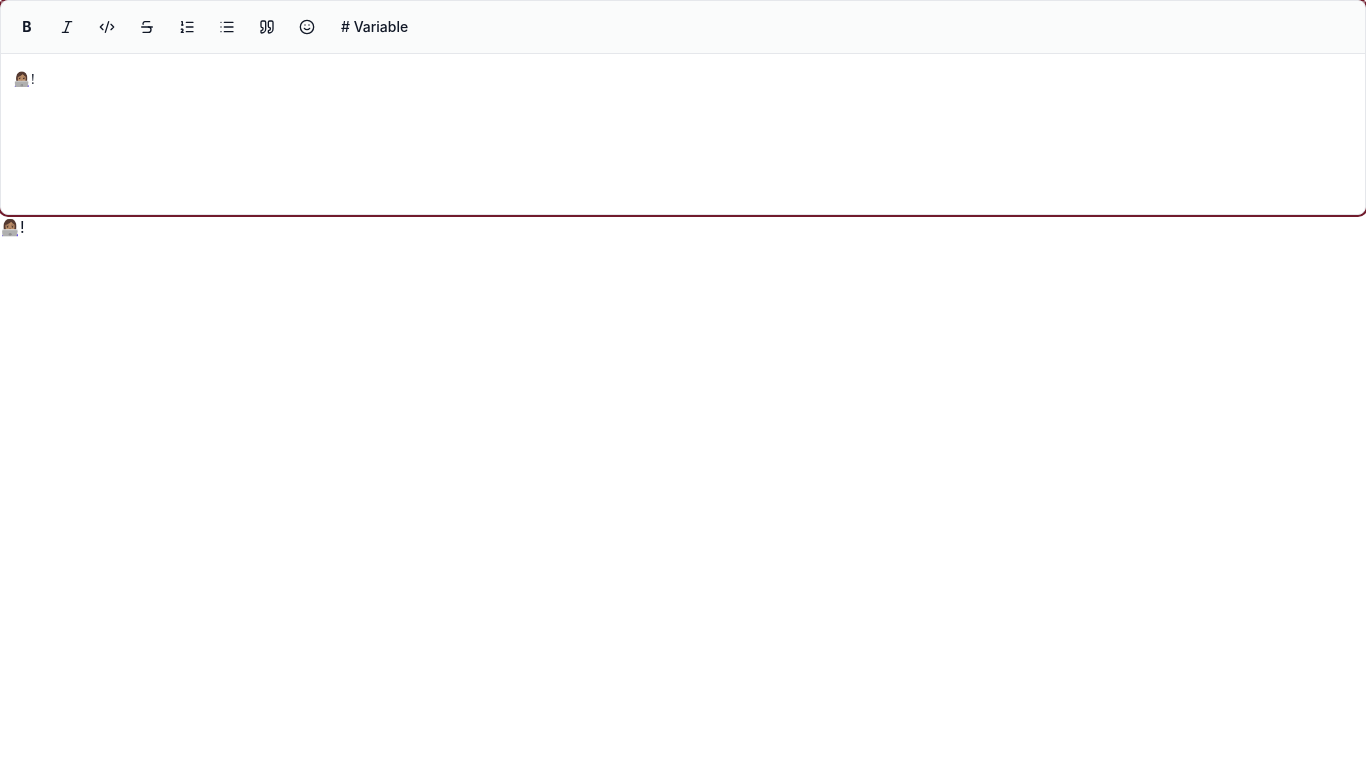
Test case: emoji and toolbar › does not split an existing composed Unicode sequence at a caret offset
Click the button named "Insertar emoji".
click(307, 27)  # box [289, 9, 325, 45]
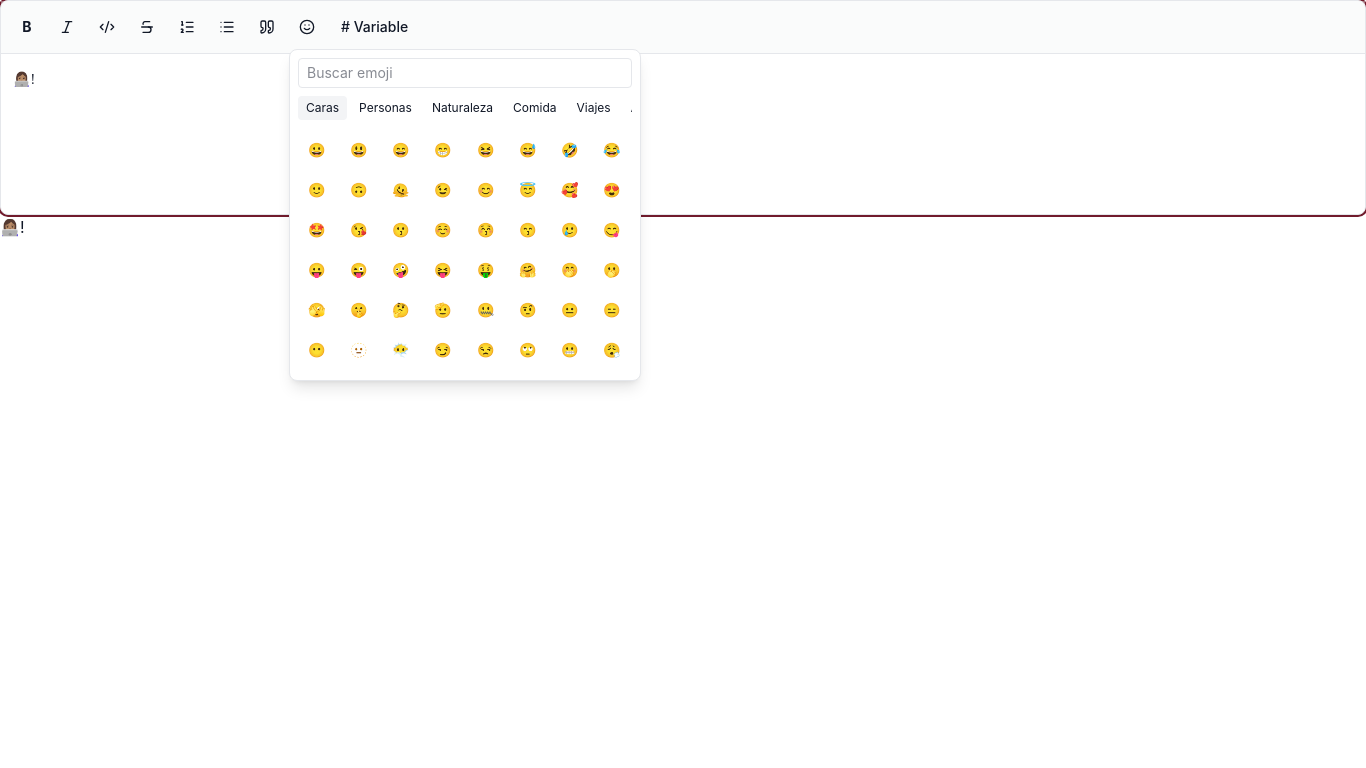
Click the button named "Insertar 😀".
click(316, 150)  # box [298, 132, 334, 168]
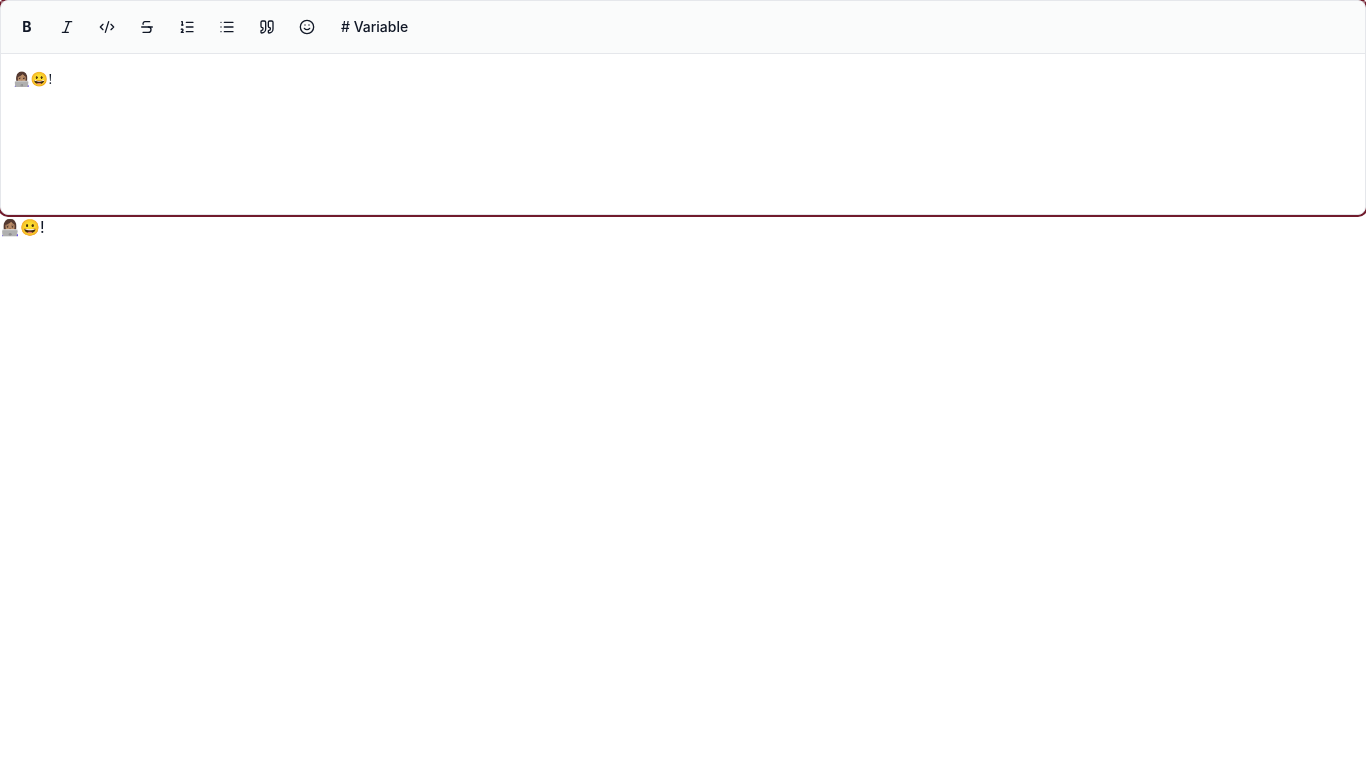
Check: the text with test id "value" reads "👩🏽‍💻😀!", box [0, 217, 45, 237]
